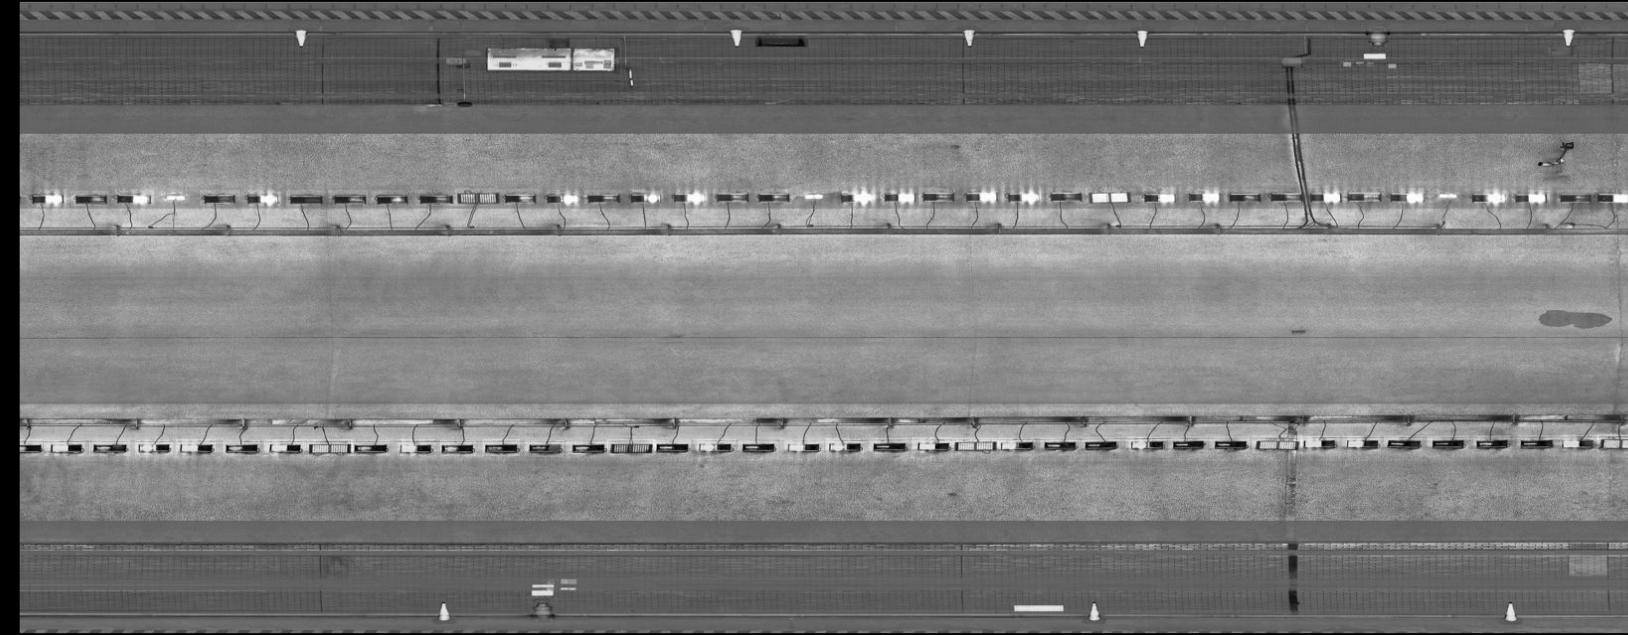light: (1085, 187, 1133, 206), (1252, 435, 1302, 453), (455, 188, 500, 206), (836, 186, 876, 206), (607, 439, 656, 455), (1184, 187, 1224, 206), (1002, 186, 1041, 205), (952, 438, 999, 454), (307, 439, 353, 455), (1142, 187, 1181, 206), (371, 190, 413, 206), (264, 439, 306, 455), (29, 189, 66, 208), (1469, 189, 1509, 206), (1305, 186, 1345, 203), (919, 187, 958, 204), (415, 190, 457, 206), (112, 189, 154, 205), (1046, 187, 1084, 204), (880, 188, 919, 205), (243, 190, 283, 206), (912, 437, 952, 453), (694, 439, 736, 454), (328, 190, 368, 206), (286, 190, 325, 206), (200, 190, 240, 206), (869, 438, 908, 454), (397, 439, 436, 455), (177, 439, 216, 455), (1557, 435, 1599, 450), (1209, 437, 1250, 452), (1079, 437, 1120, 452), (44, 440, 85, 455), (669, 189, 707, 205), (543, 190, 581, 206), (825, 438, 864, 454), (525, 440, 564, 457), (482, 439, 520, 455), (1385, 188, 1426, 203), (1345, 187, 1385, 202), (1127, 437, 1167, 452), (89, 440, 130, 455), (501, 189, 539, 205), (1427, 436, 1469, 450), (1597, 434, 1628, 453), (1384, 436, 1423, 451), (1168, 437, 1208, 452), (351, 440, 390, 455), (755, 189, 793, 204), (71, 191, 109, 206), (135, 440, 173, 455), (1517, 436, 1557, 450), (784, 440, 824, 454), (964, 188, 999, 204), (713, 189, 751, 204), (566, 441, 608, 454), (1556, 190, 1596, 204), (1511, 190, 1550, 204), (738, 440, 778, 454), (1344, 436, 1380, 451), (223, 440, 260, 455), (1225, 189, 1264, 203), (584, 190, 622, 204), (1301, 436, 1339, 450), (653, 440, 691, 454), (628, 189, 663, 204), (440, 440, 476, 455), (1265, 190, 1305, 203), (1473, 436, 1511, 450), (1040, 438, 1078, 452), (998, 438, 1035, 452), (1594, 190, 1628, 204), (19, 439, 43, 453), (161, 191, 188, 202), (801, 191, 826, 200), (1435, 189, 1462, 197)
